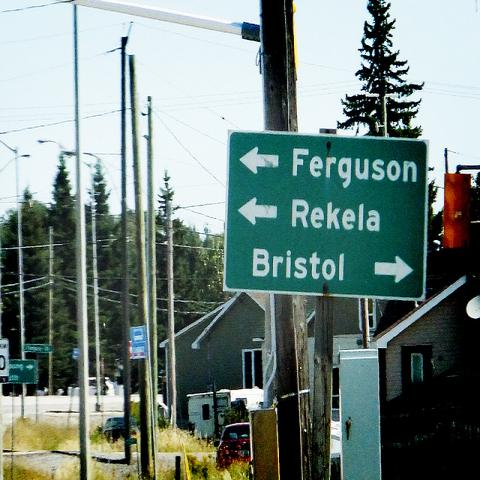car: (214, 422, 251, 470), (102, 416, 124, 441)
truck: (187, 389, 264, 437), (67, 376, 117, 397)
